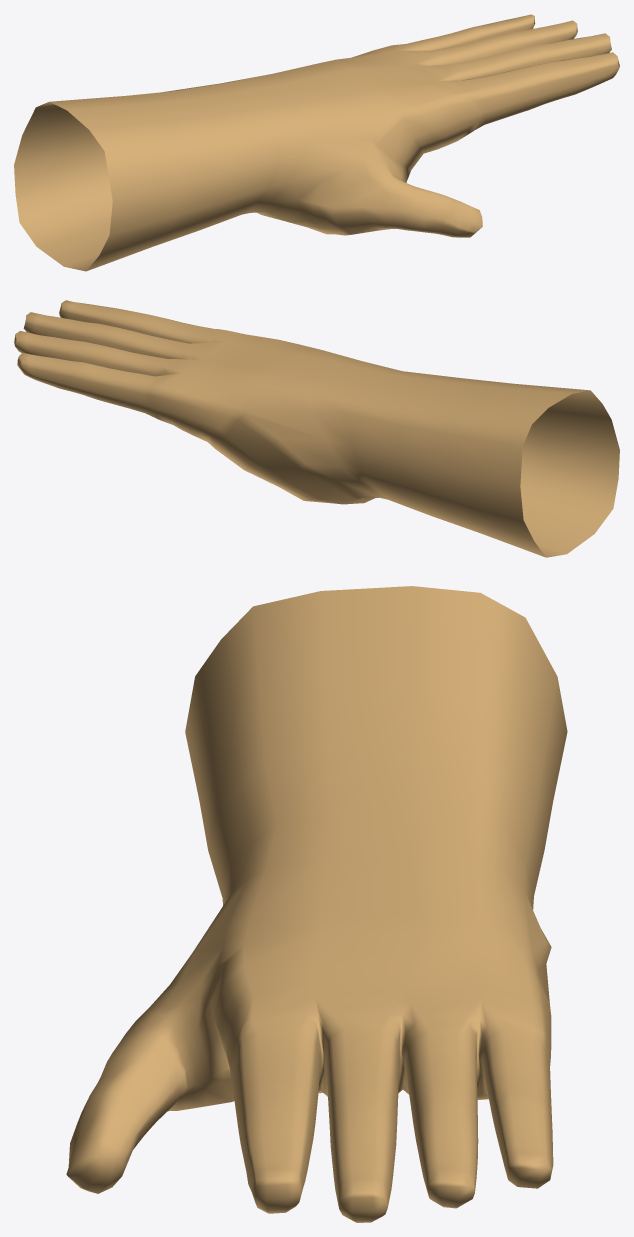
Rendered from HandMesh.fbx.
3 views of the same model, one above another, from view 1: azimuth 30°, elevation 25°; view 2: azimuth 150°, elevation 25°; view 3: azimuth 270°, elevation 25° (orthographic). The views are drawn at different scales.
Parts seen in each view (by area): view 1: HandMesh; view 2: HandMesh; view 3: HandMesh.
Part boxes in pixels (x1,y1,x2,y2): HandMesh: (14, 14, 619, 271); HandMesh: (14, 300, 619, 557); HandMesh: (66, 586, 567, 1222).
Bounding box in the file's own units: 21.04 × 5.31 × 8.24.
